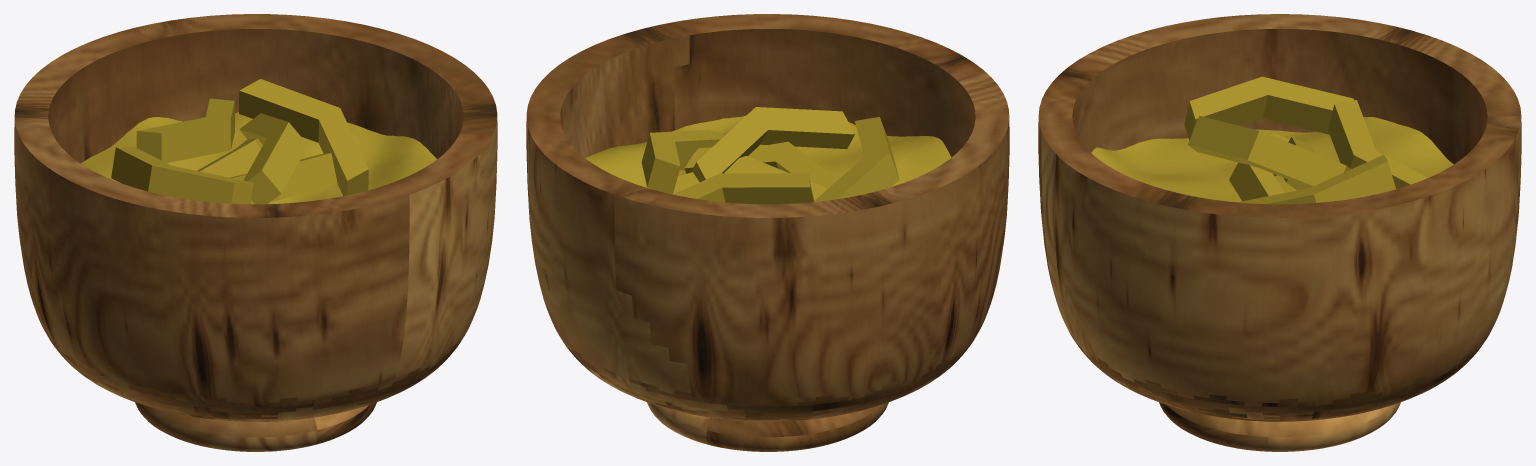
File: Hand_result.fbx
3 renders of one model, left to right at view 1: azimuth 30°, elevation 25°; view 2: azimuth 150°, elevation 25°; view 3: azimuth 270°, elevation 25°, orthographic.
Visible parts, largest first — view 1: tar, Plane; view 2: tar, Plane; view 3: tar, Plane.
Boxes of the visible parts, x1,y1,x2,y2 form: tar: [14, 14, 497, 451]; Plane: [81, 79, 436, 204]; tar: [526, 14, 1009, 451]; Plane: [585, 107, 951, 204]; tar: [1038, 14, 1521, 451]; Plane: [1091, 76, 1453, 204].
Size of the model in its own units: 1434 by 950 by 1434.
Materials: 2 (1 with a texture image).
